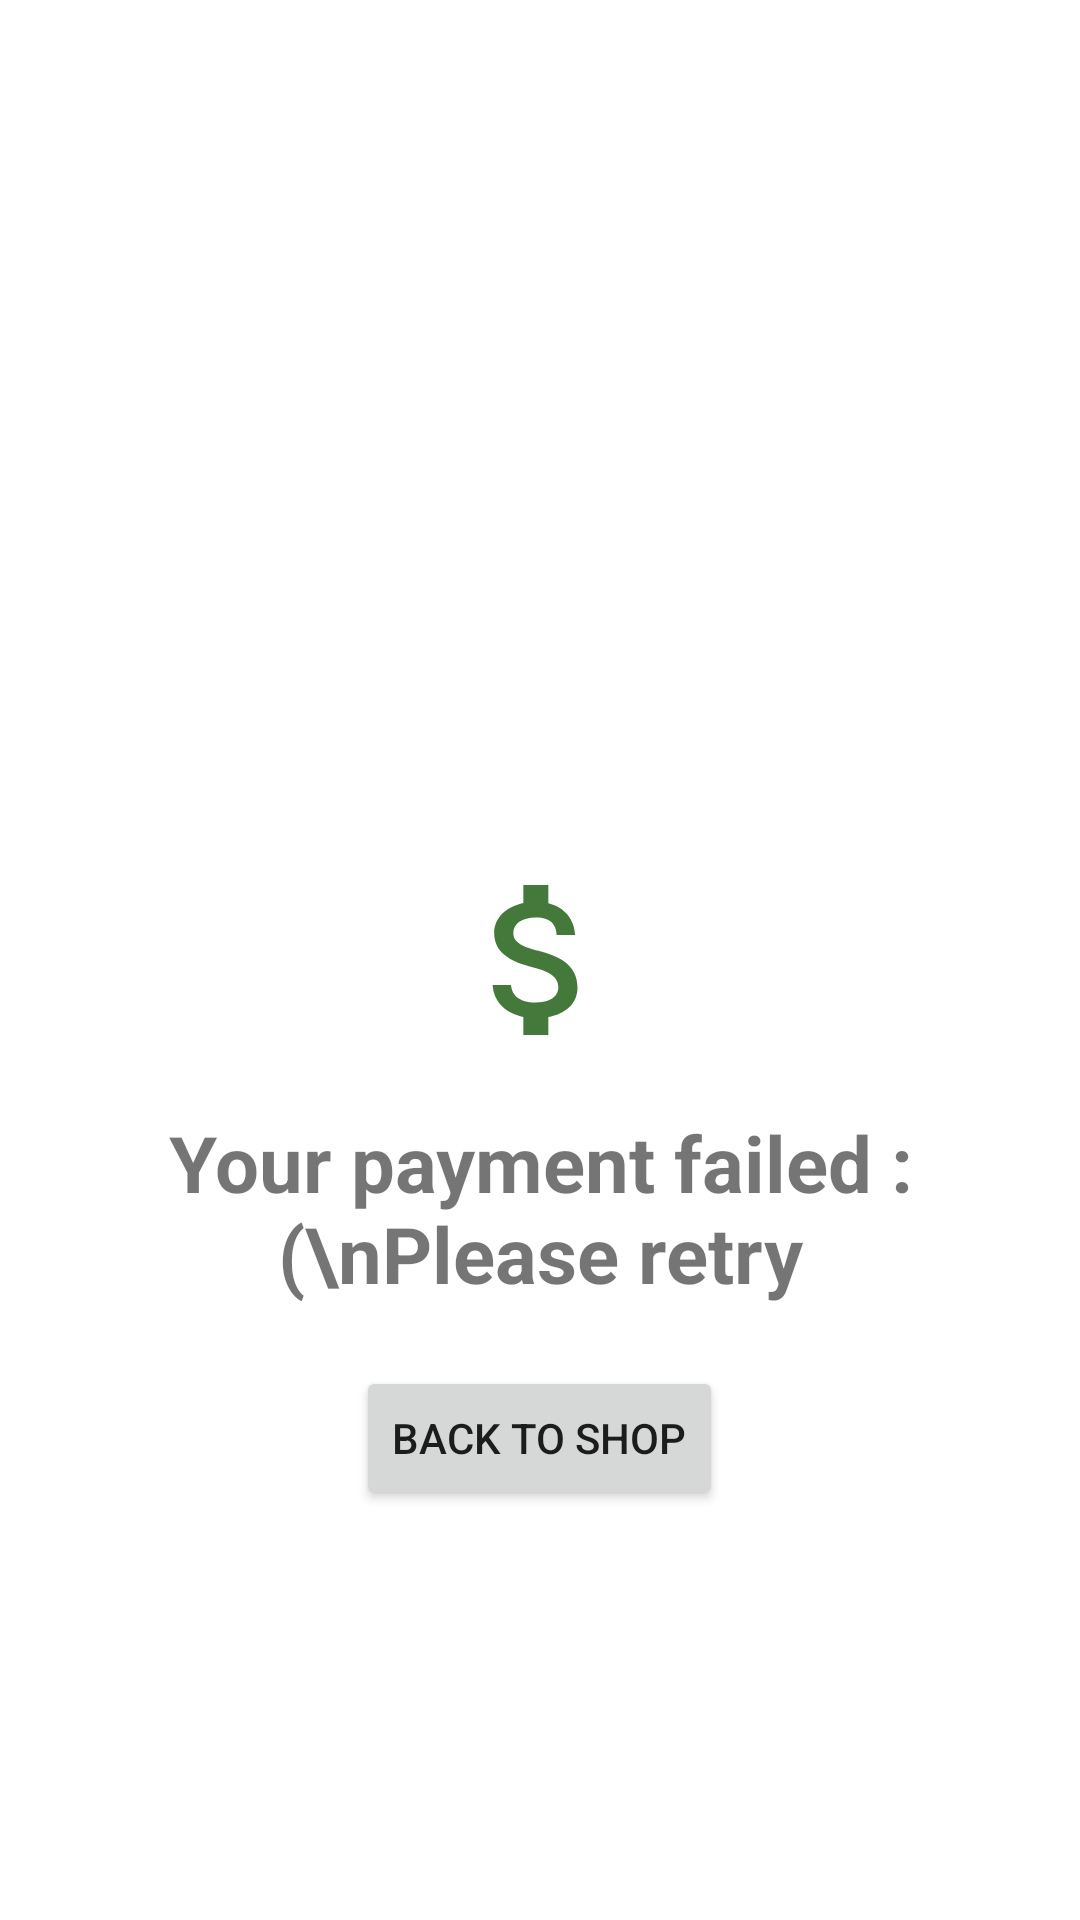

Where to tap for icons on this 1080 × 1920 app screen, as point (x, y):
money: point (535, 960)
